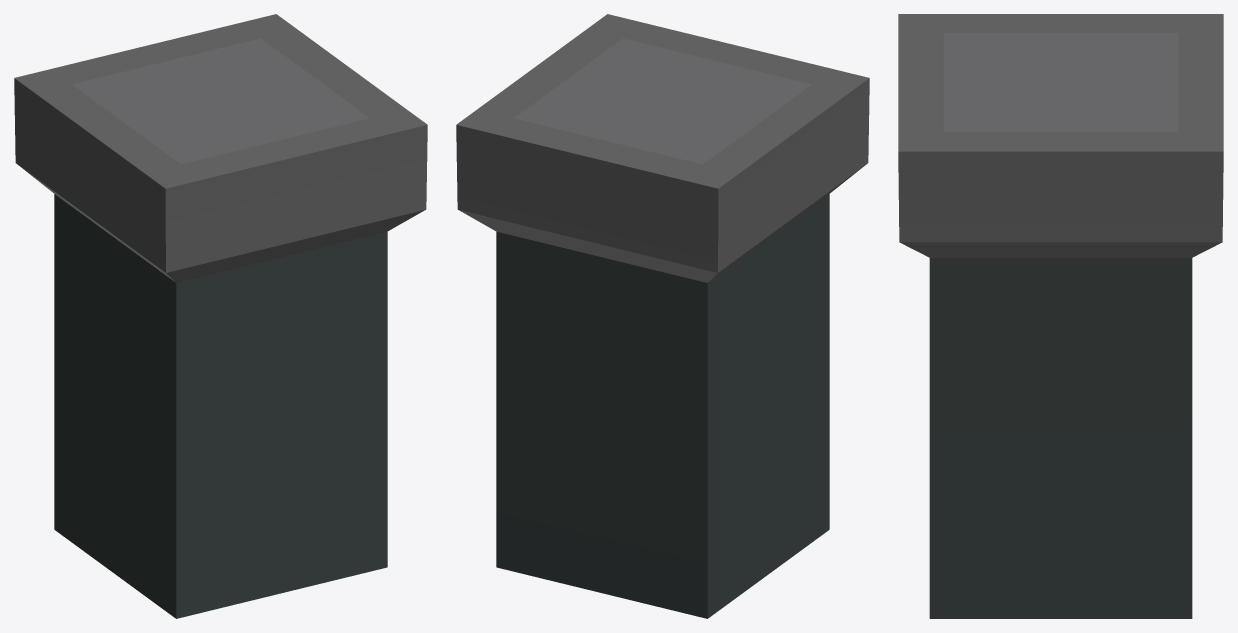
File: Chimney_2_C_1.fbx
3 views of the same model, side by side, from view 1: azimuth 30°, elevation 25°; view 2: azimuth 150°, elevation 25°; view 3: azimuth 270°, elevation 25° (orthographic). The views are drawn at different scales.
Visible parts, largest first — view 1: Chimney_2_C_1; view 2: Chimney_2_C_1; view 3: Chimney_2_C_1.
Part boxes in pixels (x1,y1,x2,y2): Chimney_2_C_1: [14, 14, 427, 618]; Chimney_2_C_1: [456, 14, 869, 618]; Chimney_2_C_1: [898, 14, 1223, 618].
Bounding box in the file's own units: 63.29 × 103 × 63.29.
